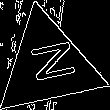N_W: (20, 40, 76, 90)
